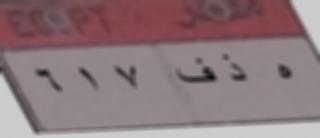1: (73, 60, 101, 99)
6: (33, 63, 64, 103)
7: (113, 59, 143, 96)
faa: (175, 53, 218, 89)
haa: (273, 62, 295, 84)
zaal: (223, 52, 250, 88)
